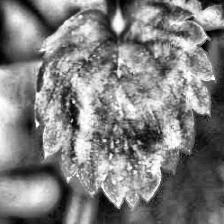Powdery Mildew Leaf: (32, 0, 215, 210), (116, 0, 224, 33)
